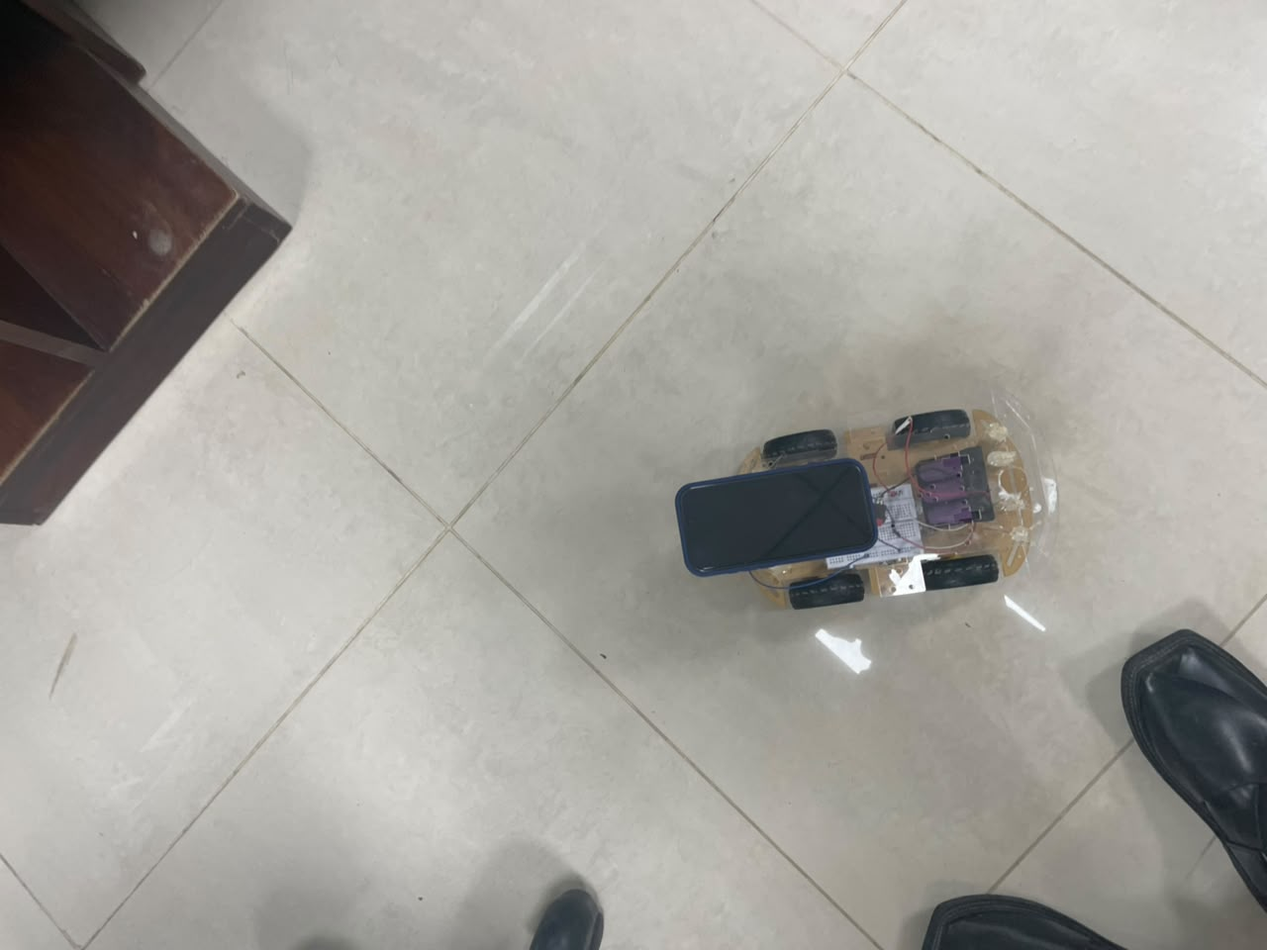Rover: (675, 393, 1057, 610)
